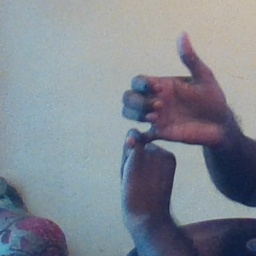S: (117, 28, 219, 198)
